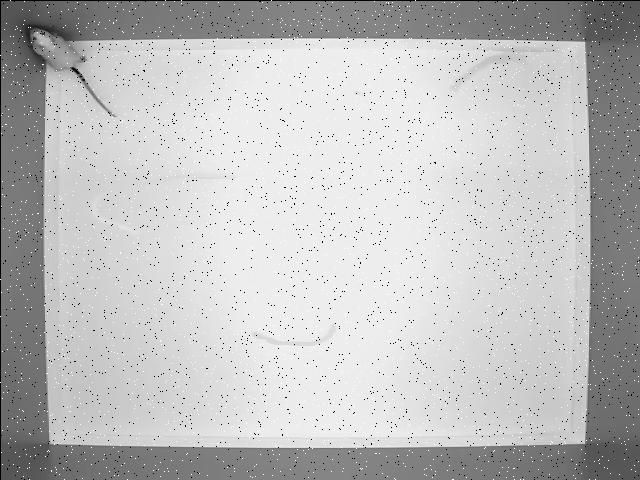Tikus: (23, 22, 122, 122)
